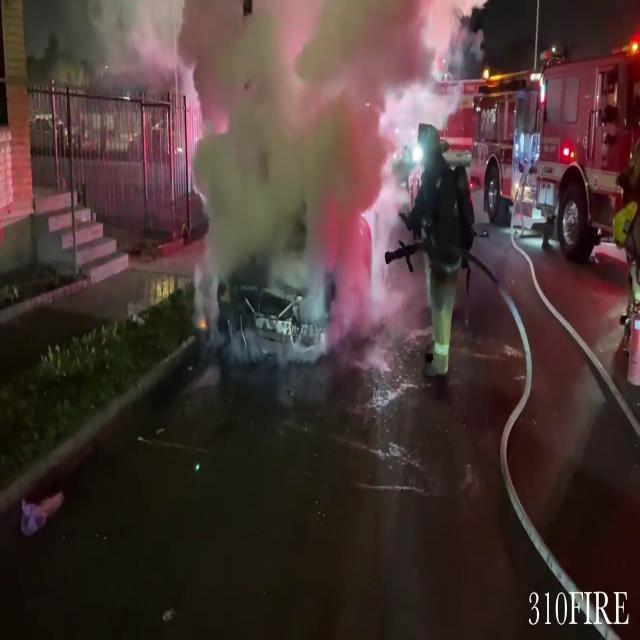Smoke: (182, 0, 412, 326)
